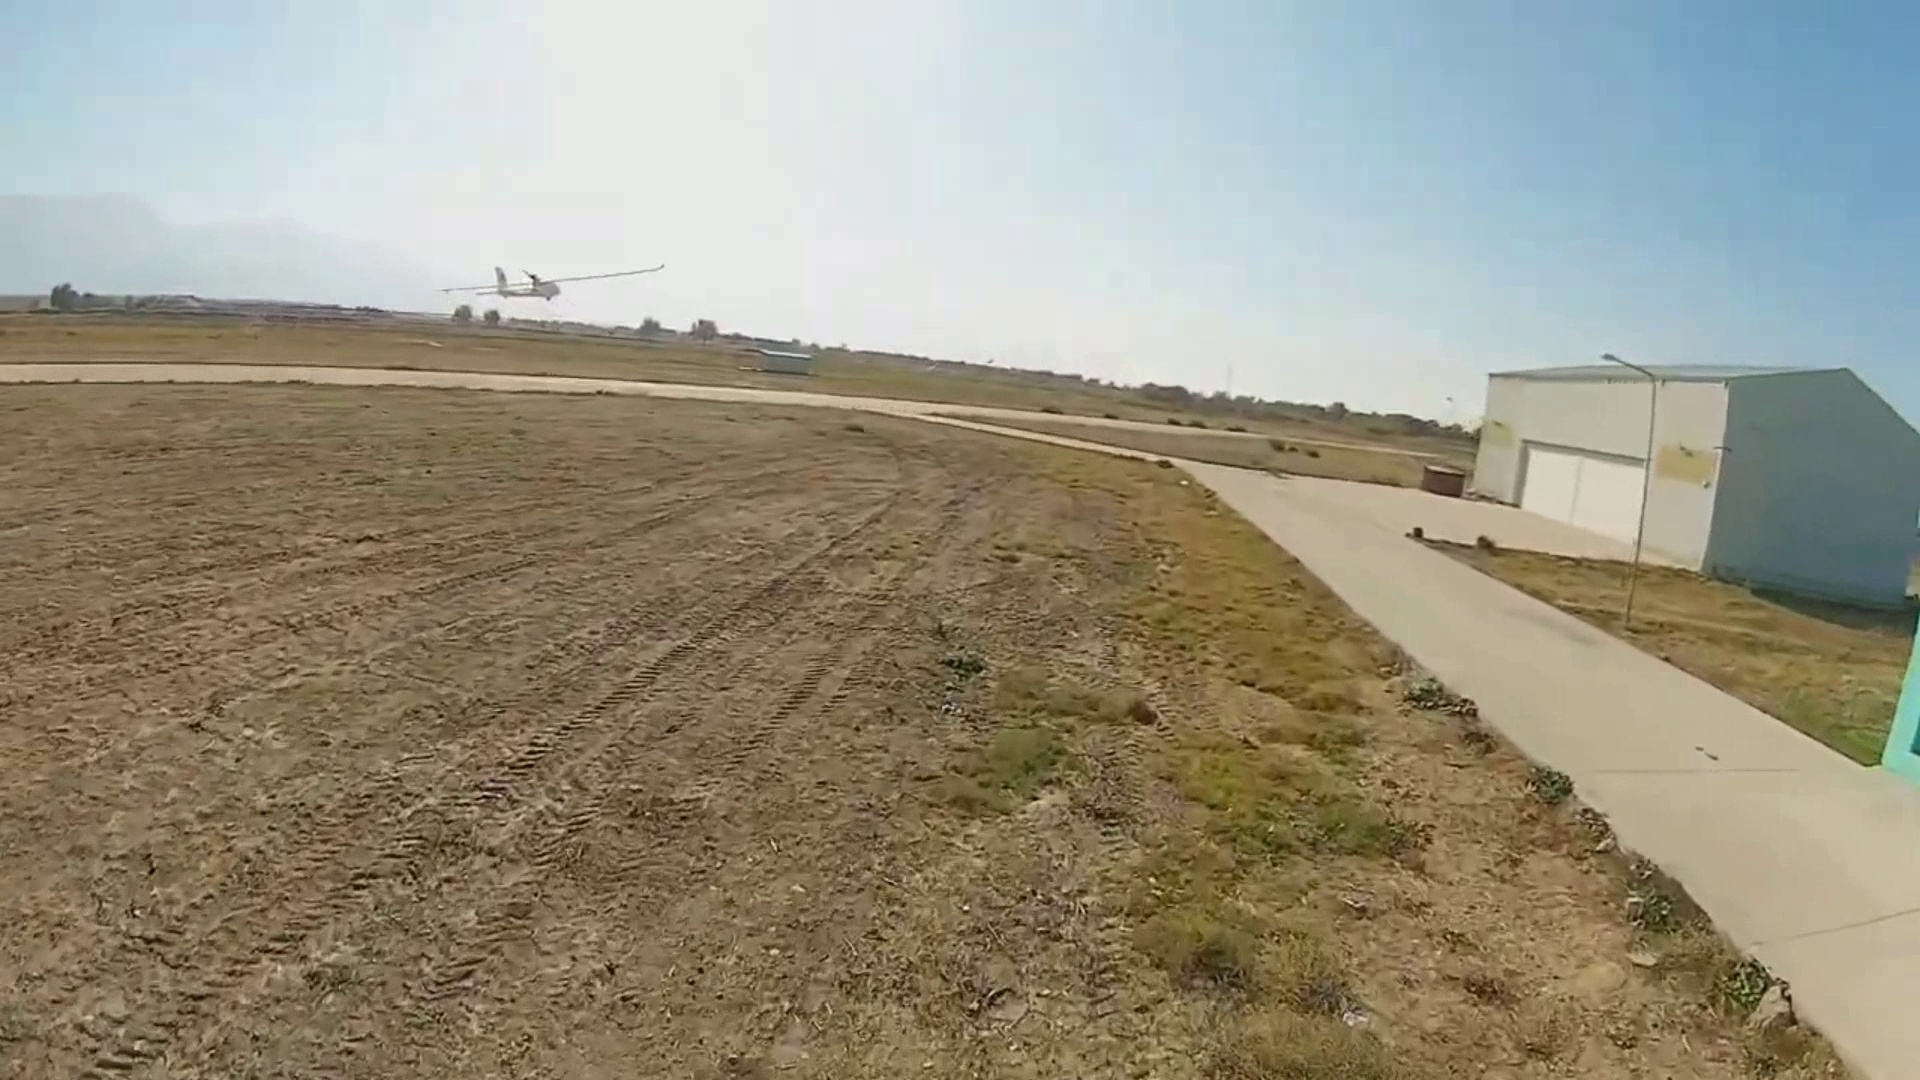airplane: (438, 249, 665, 317)
